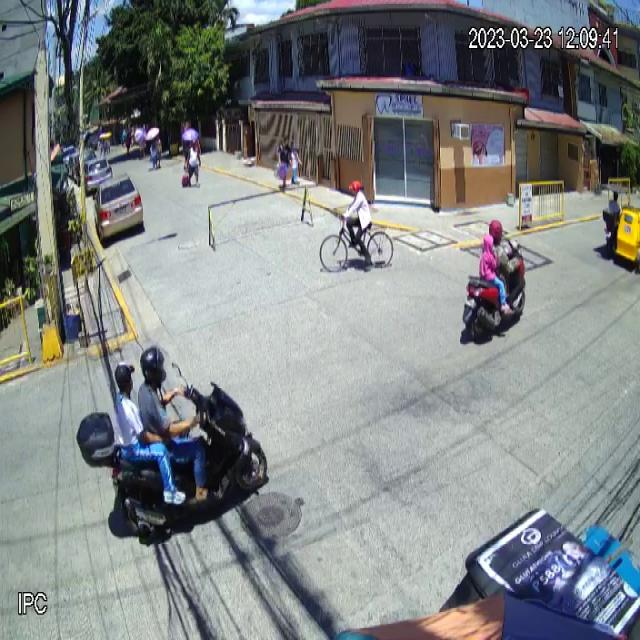Motorcycle: (75, 379, 269, 540)
